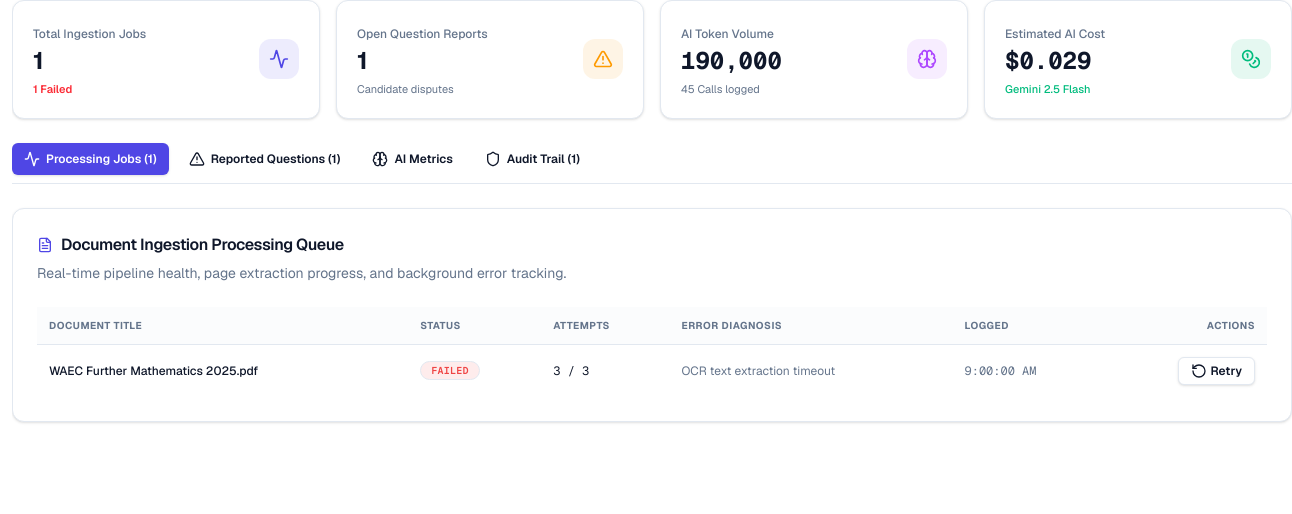
Test: AdminConsoleClient Component › switches to Reported Questions tab and handles resolve action
The image size is (1292, 514).
Note: Click Reported Questions tab
Click the tab "Reported Questions (1)": (264, 158) x1=177 y1=142 x2=352 y2=174
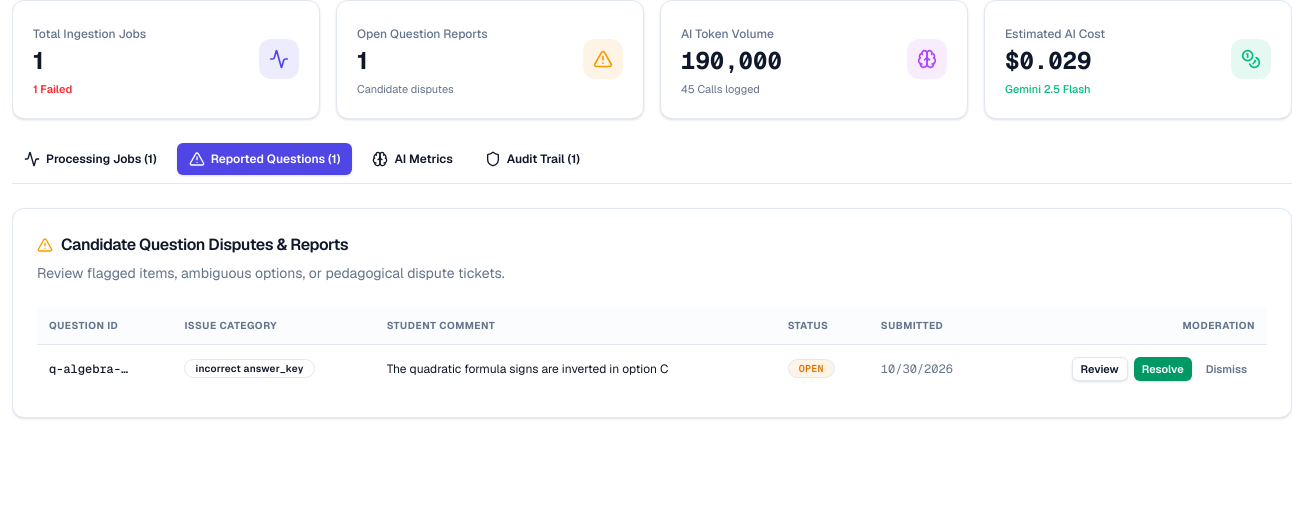
Now the text "The quadratic formula signs are inverted in option C" is shown, box x1=375 y1=344 x2=776 y2=393
Note: Click Resolve
Click the button "Resolve": (1163, 369) x1=1134 y1=357 x2=1192 y2=381
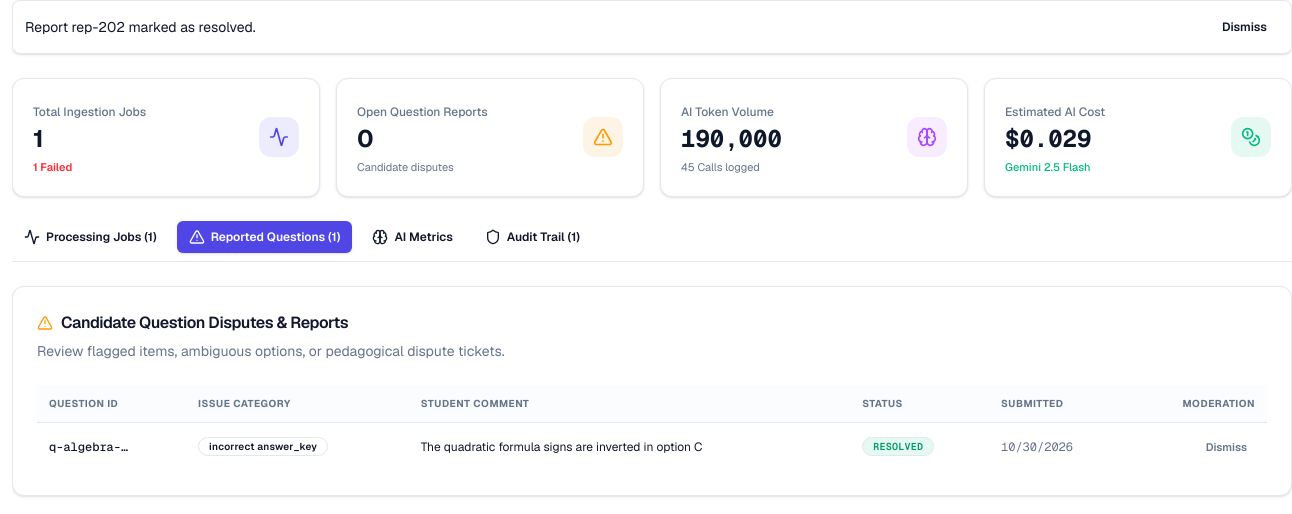
Now the text "Report rep-202 marked as resolved." is shown, box x1=25 y1=17 x2=256 y2=37
